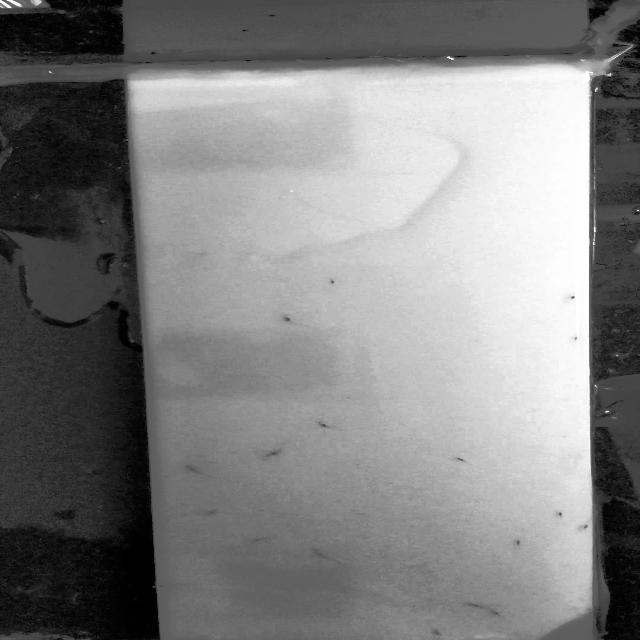shrimp: (304, 545, 344, 564), (244, 533, 283, 548), (262, 444, 290, 462), (184, 464, 212, 478), (430, 626, 453, 639), (153, 582, 190, 590), (200, 505, 224, 517), (313, 418, 333, 432), (465, 602, 490, 613), (563, 332, 581, 345), (512, 534, 528, 548), (484, 608, 505, 618), (552, 506, 567, 520), (456, 458, 476, 467), (559, 294, 576, 304), (285, 316, 299, 326), (580, 522, 592, 532), (326, 278, 340, 286)
